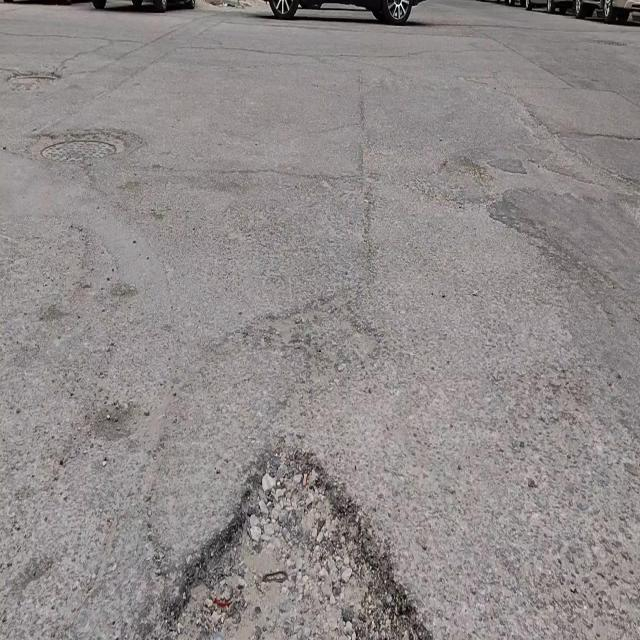Manhole: (40, 142, 116, 161)
Pothole: (164, 443, 428, 639)
